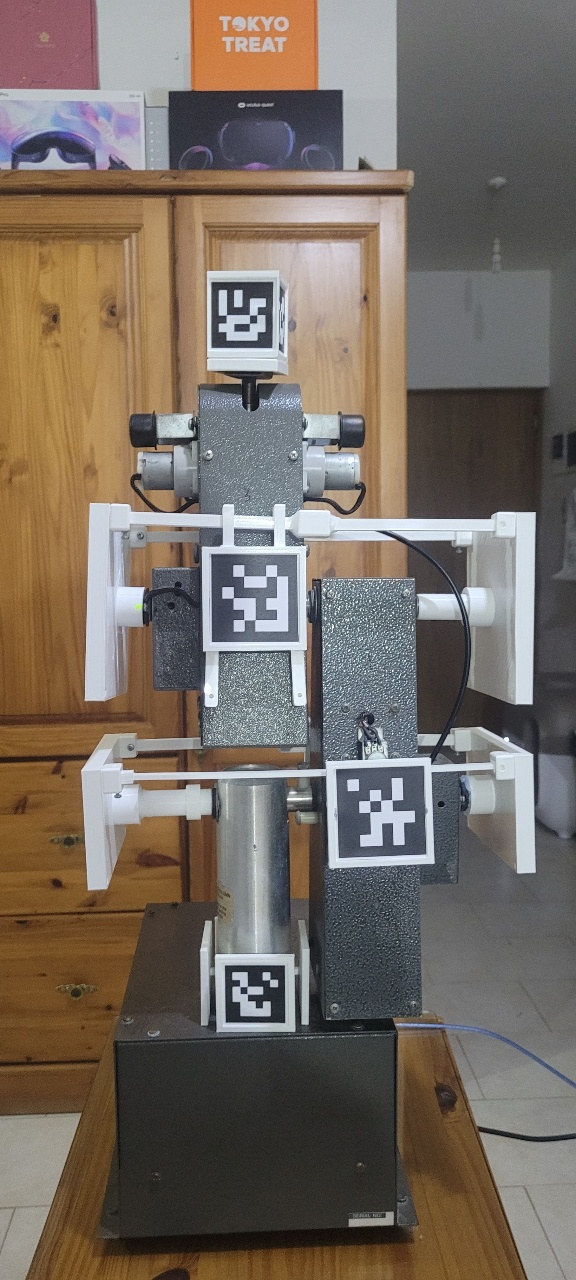Robot: (55, 187, 551, 991)
